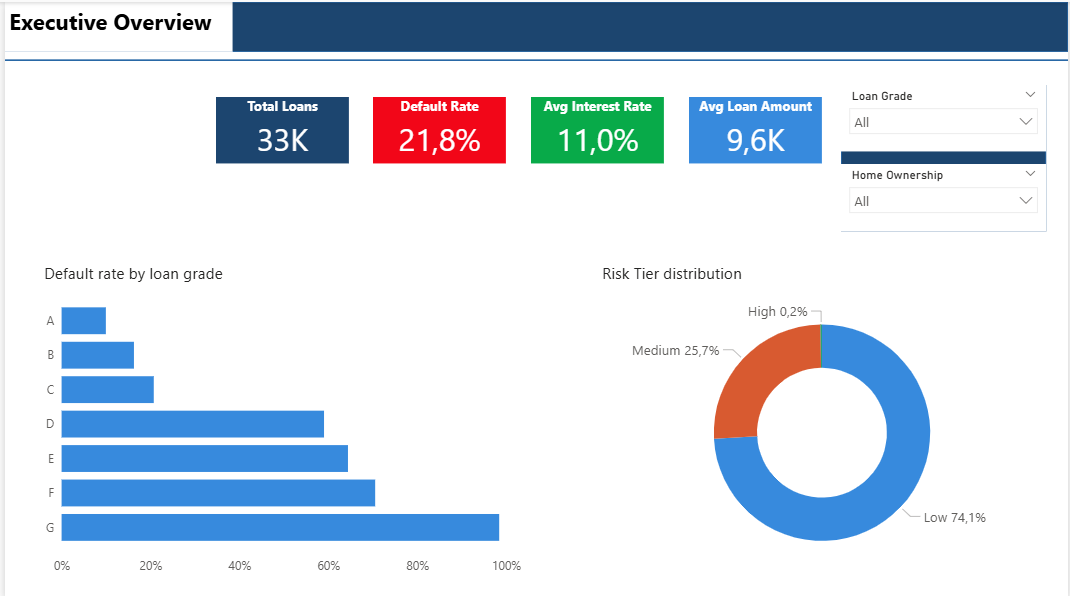

Layout of this report page (visuals, bound fields, positions):
{"tool":"powerbi","page":{"name":"Executive Overview","canvas":[1280,720],"ordinal":0},"visuals":[{"type":"shape","box":[1006.4,99.9,247,176.1],"z":0},{"type":"shape","box":[0,0,1280,60],"z":1000},{"type":"textbox","box":[0,0,274.2,60.2],"z":2000},{"type":"card","title":"Default Rate","fields":{"Values":["_Measures.Default Rate %"]},"box":[443.6,114.6,160.4,80.2],"z":3000},{"type":"card","title":"Avg Loan Amount","fields":{"Values":["_Measures.Avg Loan Amount"]},"box":[823.3,114.6,160.4,80.2],"z":4000},{"type":"card","title":"Avg Interest Rate","fields":{"Values":["_Measures.Avg Interest Rate"]},"box":[633.5,114.6,160.4,80.2],"z":5000},{"type":"card","title":"Total Loans","fields":{"Values":["_Measures.Total Loans"]},"box":[253.7,114.6,160.4,80.2],"z":6000},{"type":"shape","box":[0,60.2,1280,19.7],"z":7000},{"type":"barChart","title":"Default rate  by loan grade","fields":{"Category":["loans.Loan Grade"],"Y":["_Measures.Default Rate %"]},"box":[41.6,312.9,584.2,386.2],"z":8000},{"type":"donutChart","title":"Risk Tier distribution","fields":{"Category":["loans.Risk Tier"],"Y":["_Measures.Total Loans"]},"box":[714.1,312.9,539.3,386.2],"z":9000},{"type":"slicer","fields":{"Values":["loans.Home Ownership"]},"box":[1006.4,194.5,247,81.5],"z":10000},{"type":"slicer","fields":{"Values":["loans.Loan Grade"]},"box":[1006.4,99.9,247,80.1],"z":11000}]}

Visuals, with their boxes in screenshot pixels (x1, y1, x2, y2), scaled from the page's 1280x720 canvas onto the 1070x596 screenshot:
shape: region(841, 83, 1048, 228)
shape: region(0, 0, 1069, 50)
textbox: region(0, 0, 229, 50)
"Default Rate" card: region(371, 95, 505, 161)
"Avg Loan Amount" card: region(688, 95, 822, 161)
"Avg Interest Rate" card: region(530, 95, 664, 161)
"Total Loans" card: region(212, 95, 346, 161)
shape: region(0, 50, 1069, 66)
"Default rate  by loan grade" barChart: region(35, 259, 523, 579)
"Risk Tier distribution" donutChart: region(597, 259, 1048, 579)
slicer - loans.Home Ownership: region(841, 161, 1048, 228)
slicer - loans.Loan Grade: region(841, 83, 1048, 149)
